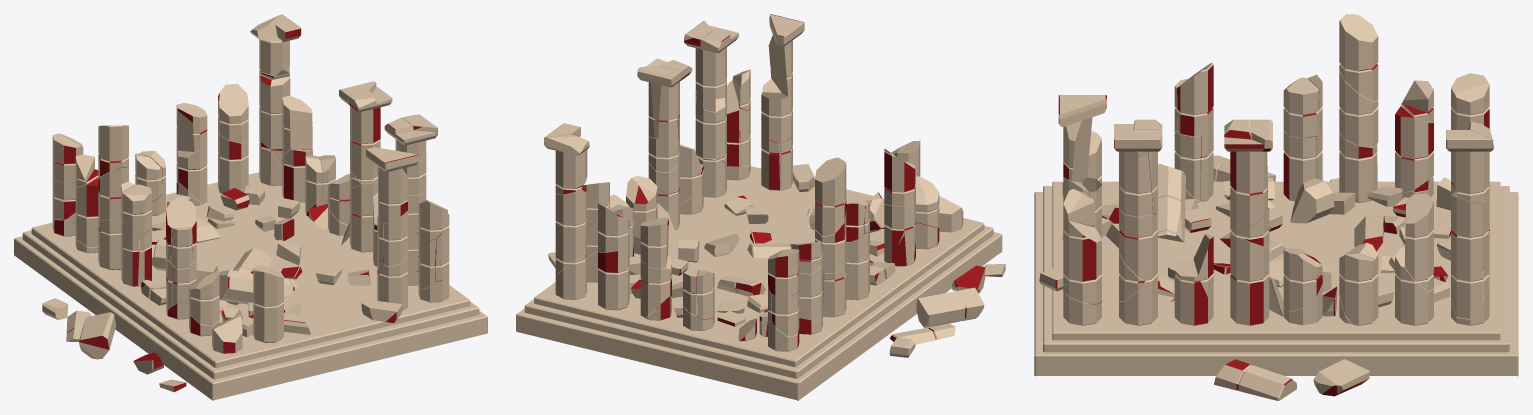
Rendered from Parthenon-Destroyed2.fbx.
3 views of the same model, side by side, from view 1: azimuth 30°, elevation 25°; view 2: azimuth 150°, elevation 25°; view 3: azimuth 270°, elevation 25° (orthographic). The views are drawn at different scales.
Parts seen in each view (by area): view 1: pillars b_cell.259; view 2: pillars b_cell.259; view 3: pillars b_cell.259.
Boxes of the visible parts, x1,y1,x2,y2 form: pillars b_cell.259: (14,14,487,400); pillars b_cell.259: (516,14,1005,400); pillars b_cell.259: (1034,14,1518,400).
Bounding box in the file's own units: 222 × 104 × 200.
